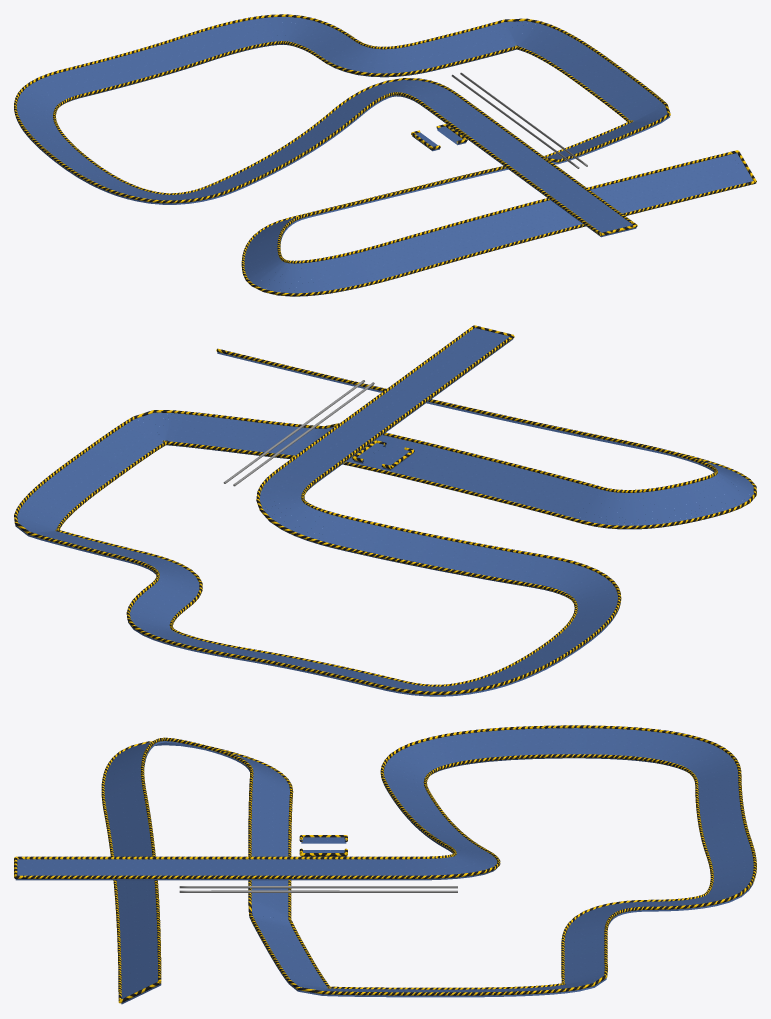
The model's file is Circut.fbx.
3 renders of one model, top to bottom at view 1: azimuth 30°, elevation 25°; view 2: azimuth 150°, elevation 25°; view 3: azimuth 270°, elevation 25°, orthographic. The views are drawn at different scales.
Visible parts, largest first — view 1: Cube, Cube.003; view 2: Cube, Cube.003; view 3: Cube, Cube.003.
Part boxes in pixels (x1=…): Cube: x1=14, y1=14, x2=756, y2=296; Cube.003: x1=451, y1=72, x2=587, y2=168; Cube: x1=14, y1=325, x2=756, y2=696; Cube.003: x1=223, y1=380, x2=374, y2=486; Cube: x1=14, y1=725, x2=756, y2=1004; Cube.003: x1=179, y1=886, x2=457, y2=892.
Bounding box in the file's own units: 11644 × 964 × 13269.
